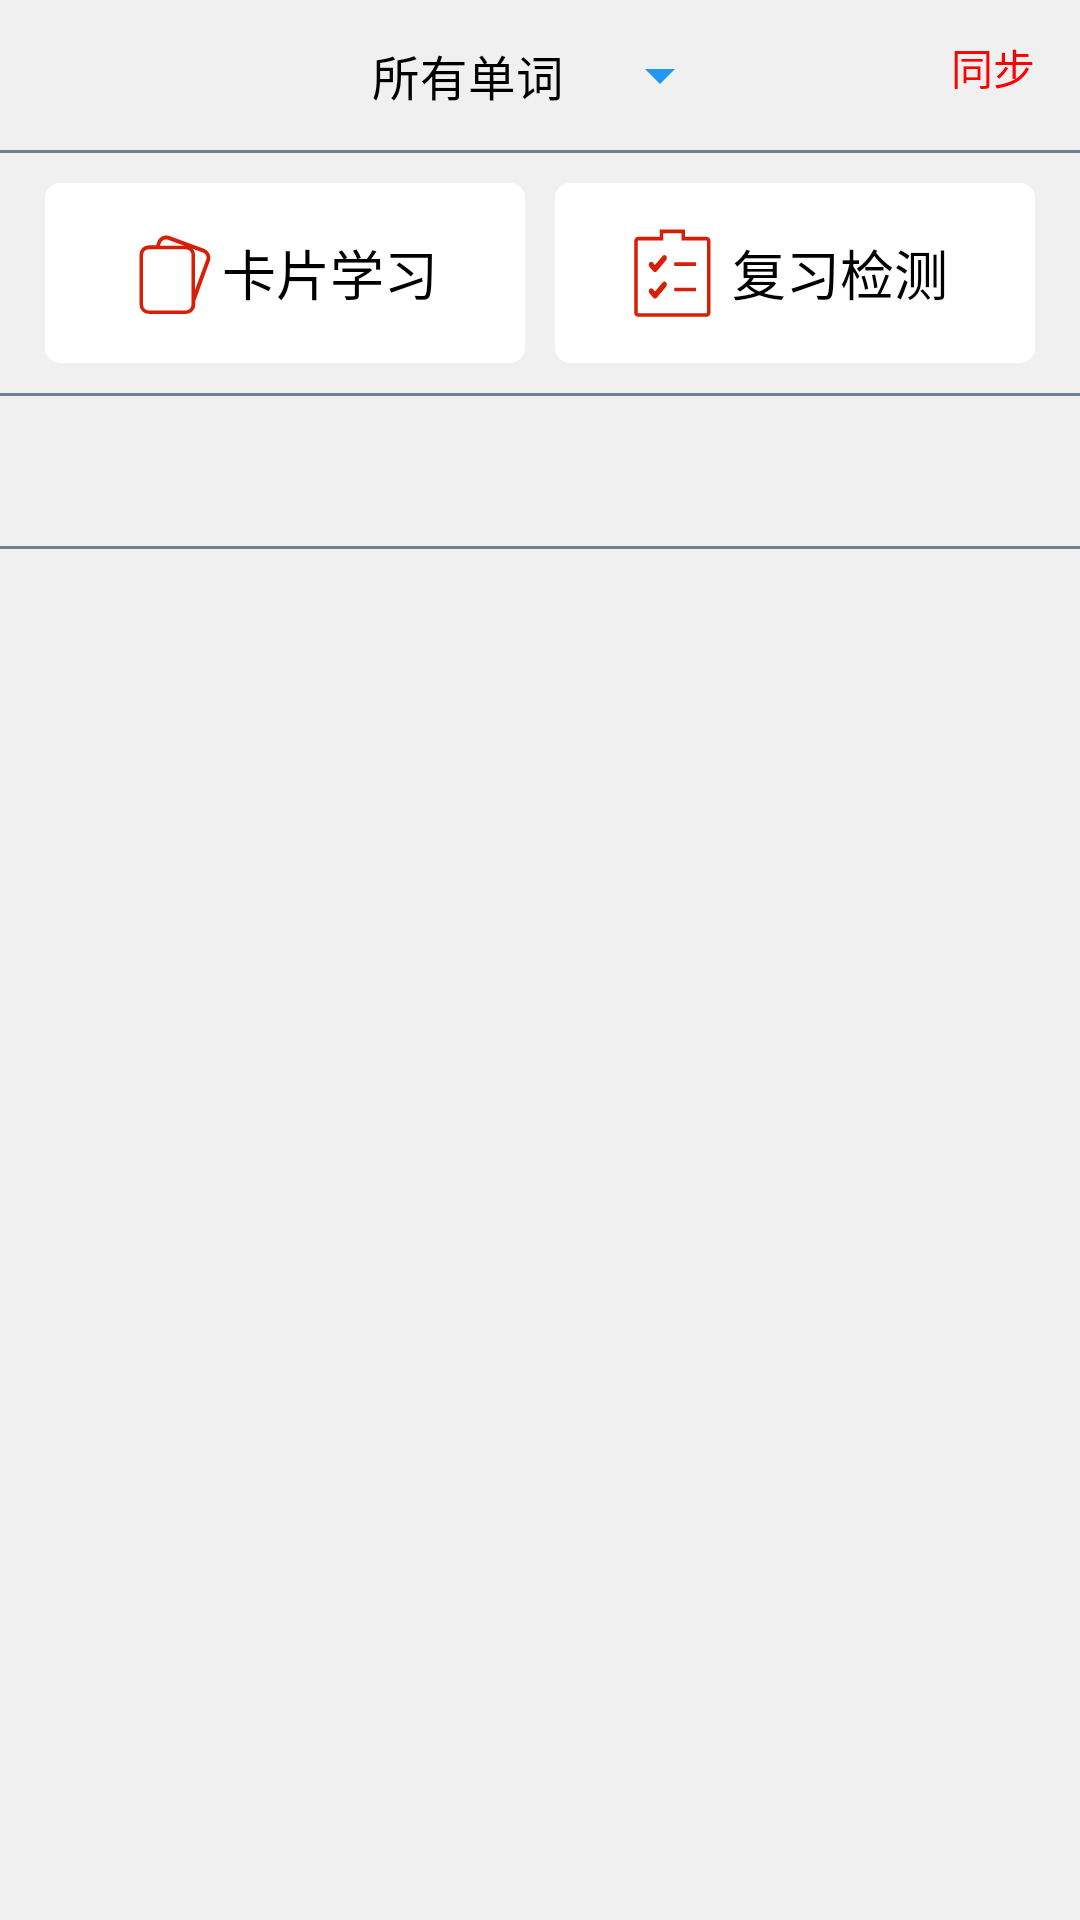

Icons on this 1080 x 1920 Android screen, each with its box as (x1, y1, x2, y2):
reviewtest: (634, 229, 711, 317)
